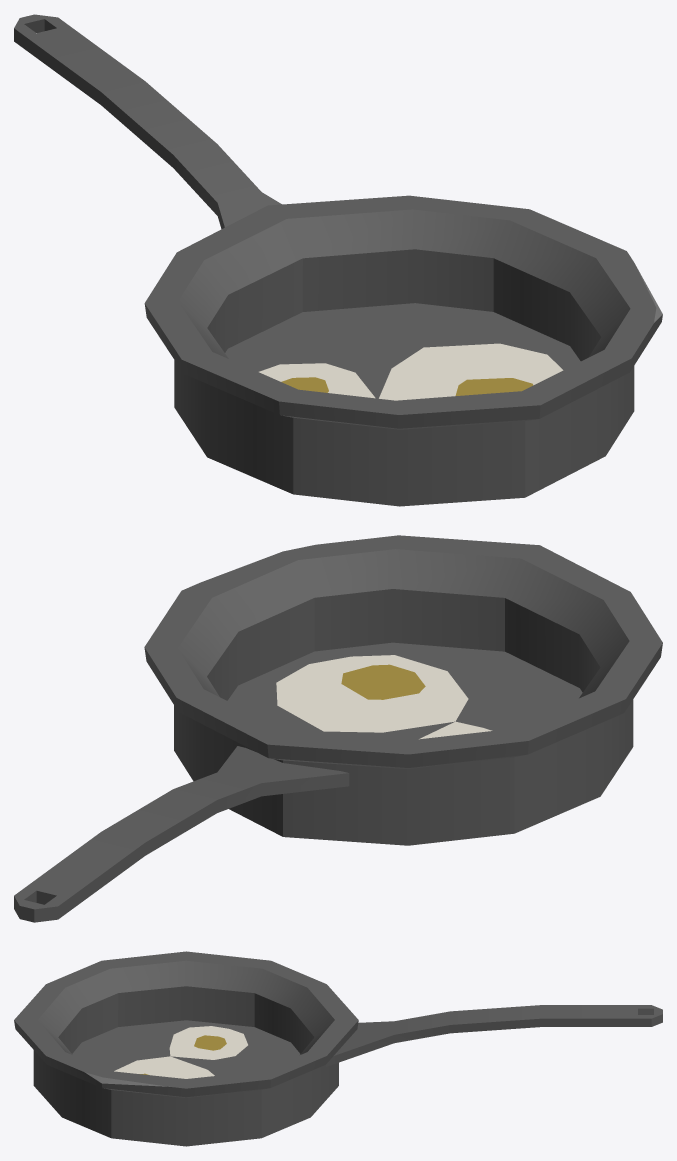
File: EA_Items_House_pan_empty_01a.glb
3 views of the same model, one above another, from view 1: azimuth 30°, elevation 25°; view 2: azimuth 150°, elevation 25°; view 3: azimuth 270°, elevation 25° (orthographic). The views are drawn at different scales.
Visible parts, largest first — view 1: EA_Items_House_pan_empty_01a; view 2: EA_Items_House_pan_empty_01a; view 3: EA_Items_House_pan_empty_01a.
Boxes of the visible parts, box(x1,y1,x2,y2) form: EA_Items_House_pan_empty_01a: box(14, 14, 662, 506); EA_Items_House_pan_empty_01a: box(14, 535, 662, 922); EA_Items_House_pan_empty_01a: box(14, 951, 662, 1146).
Size of the model in its own units: 0.2369 by 0.0595 by 0.4735.
Materials: 1 (1 with a texture image).
